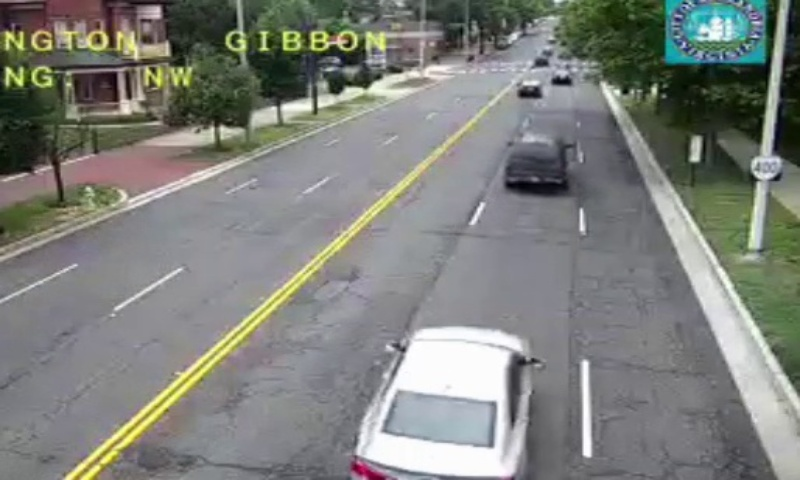car: (348, 326, 533, 480), (504, 134, 566, 189)
